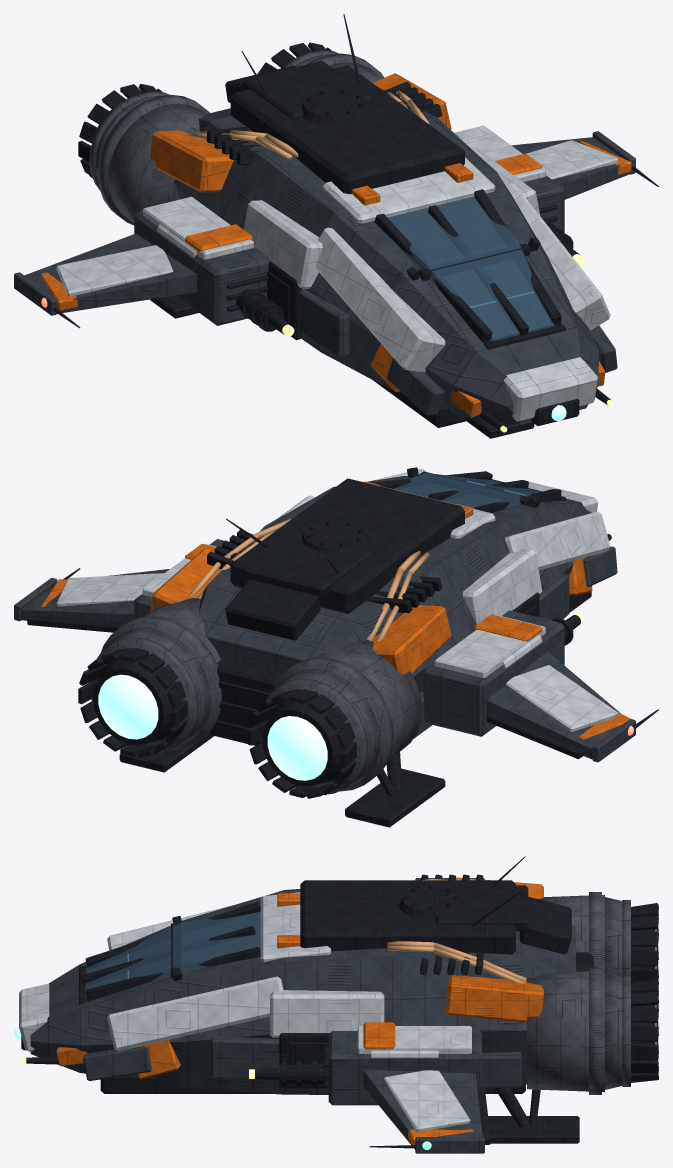
Rendered from nave_marte.glb.
3 renders of one model, top to bottom at view 1: azimuth 30°, elevation 25°; view 2: azimuth 150°, elevation 25°; view 3: azimuth 270°, elevation 25°, orthographic. The views are drawn at different scales.
Visible parts, largest first — view 1: CascoGrafite, ArmaduraEscura, BlindagemBranca, AsasEstrutura, CabineVidro, MotoresTraseiros, AsasBranco, FaixasLaranja, CanhoesAntenas, MotoresPetalas, DutosCobre, TremPouso; view 2: ArmaduraEscura, CascoGrafite, MotoresTraseiros, AsasEstrutura, MotoresPetalas, AsasBranco, BlindagemBranca, FaixasLaranja, MotoresPlasmaCore, TremPouso, CanhoesAntenas, CabineVidro (+1 smaller); view 3: CascoGrafite, ArmaduraEscura, MotoresTraseiros, BlindagemBranca, AsasEstrutura, FaixasLaranja, AsasBranco, CabineVidro, MotoresPetalas, TremPouso, CanhoesAntenas, DutosCobre.
Part boxes in pixels (x1,y1,x2,y2): CascoGrafite: [174, 99, 617, 424]; ArmaduraEscura: [207, 60, 579, 427]; BlindagemBranca: [244, 146, 610, 421]; AsasEstrutura: [14, 131, 635, 325]; CabineVidro: [388, 197, 554, 341]; MotoresTraseiros: [89, 50, 384, 225]; AsasBranco: [56, 125, 617, 296]; FaixasLaranja: [41, 73, 631, 417]; CanhoesAntenas: [53, 14, 658, 430]; MotoresPetalas: [78, 42, 331, 178]; DutosCobre: [189, 88, 429, 160]; TremPouso: [150, 295, 534, 438]; ArmaduraEscura: [207, 467, 591, 745]; CascoGrafite: [198, 476, 617, 738]; MotoresTraseiros: [91, 598, 422, 794]; AsasEstrutura: [14, 539, 635, 762]; MotoresPetalas: [78, 647, 356, 798]; AsasBranco: [56, 544, 617, 731]; BlindagemBranca: [277, 469, 610, 624]; FaixasLaranja: [41, 481, 630, 739]; MotoresPlasmaCore: [98, 674, 327, 780]; TremPouso: [119, 733, 445, 827]; CanhoesAntenas: [27, 518, 658, 759]; CabineVidro: [393, 473, 540, 508]; CascoGrafite: [30, 889, 575, 1094]; ArmaduraEscura: [21, 874, 596, 1093]; MotoresTraseiros: [527, 892, 630, 1094]; BlindagemBranca: [19, 892, 384, 1051]; AsasEstrutura: [328, 878, 484, 1153]; FaixasLaranja: [56, 877, 543, 1144]; AsasBranco: [357, 1026, 471, 1131]; CabineVidro: [85, 911, 260, 997]; MotoresPetalas: [631, 903, 658, 1082]; TremPouso: [488, 1087, 579, 1143]; CanhoesAntenas: [26, 856, 525, 1148]; DutosCobre: [387, 878, 526, 983].
Bounding box in the file's own units: 8.66 × 3.36 × 8.92.
13 materials, 5 textured.
